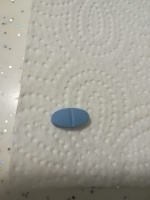Majezik: (49, 106, 92, 131)
